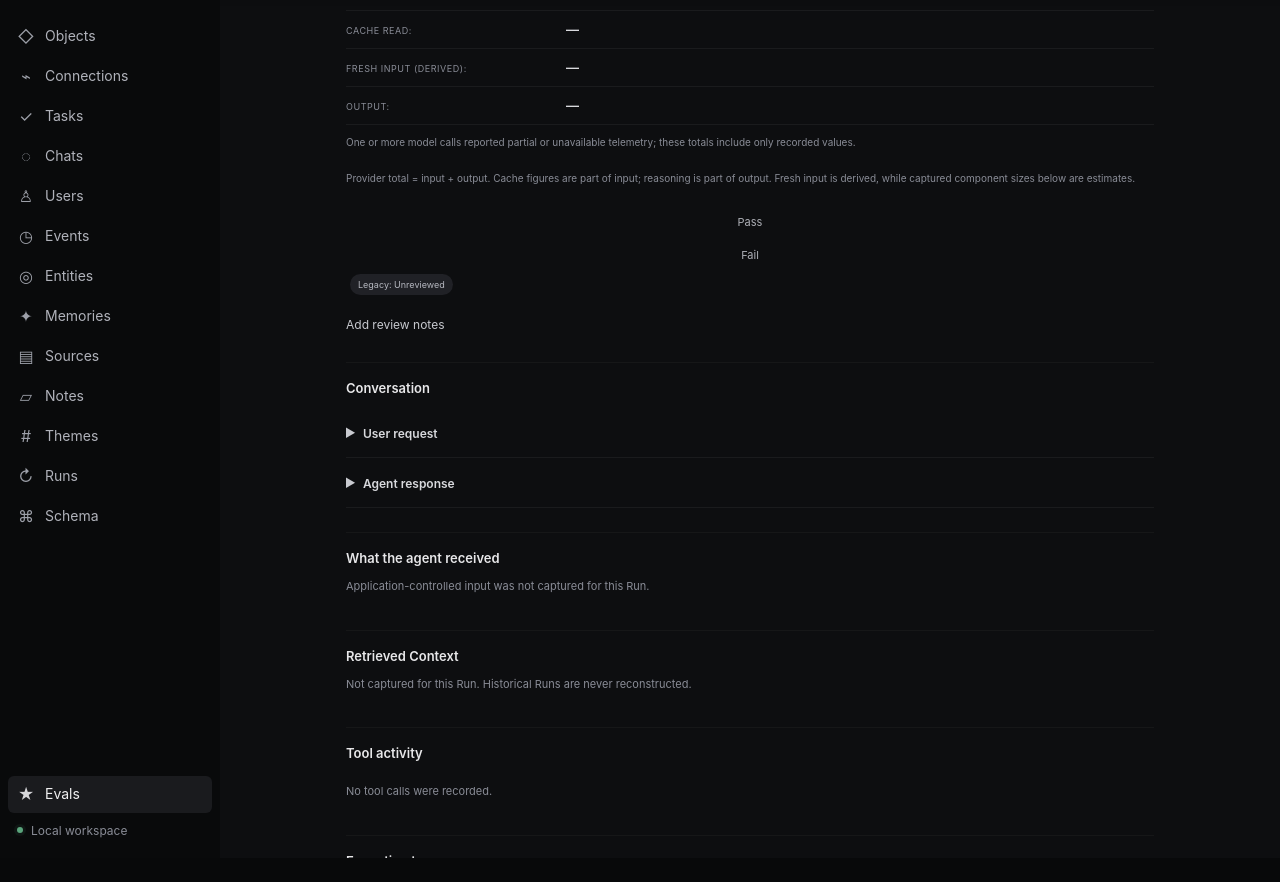
Scenario: minimal canonical UI › renders database date tuples captured by early explainable Runs
(page scrolled)
What coordinates should you click on to do the following:
click the heading "User request"
I would click on:
 (400, 433)
Its box is [363,426,438,440].
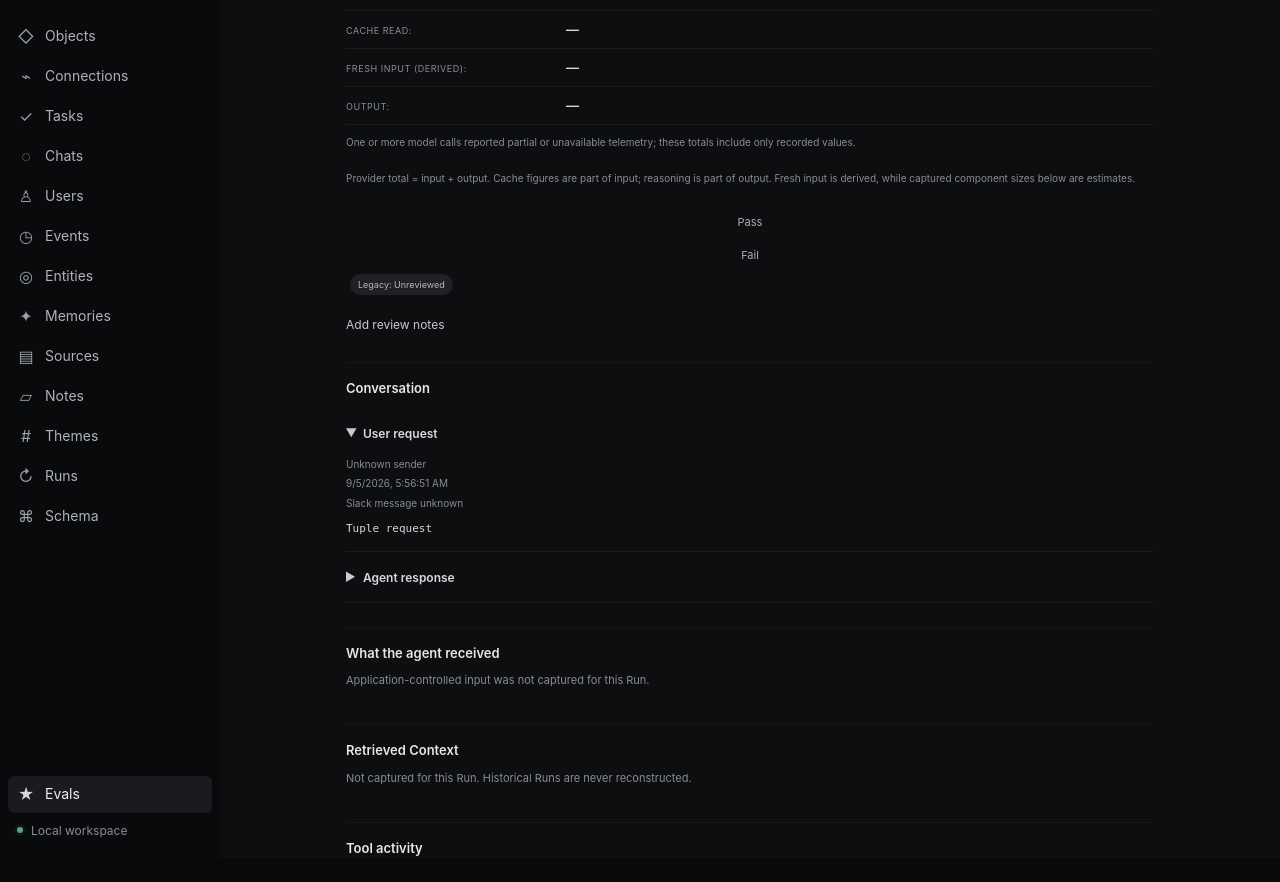
Check: the text "Tuple request" is shown, box [346,522,432,535]
